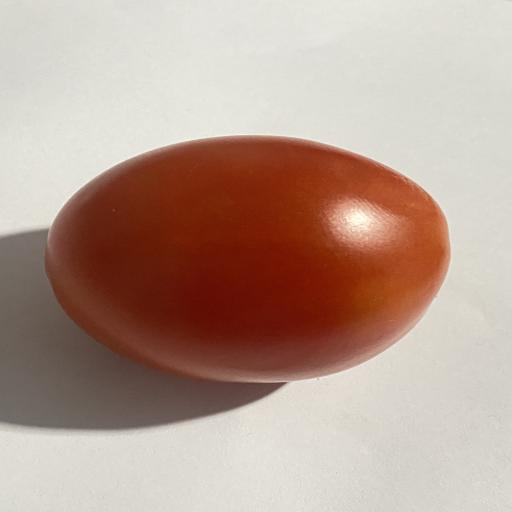ripe: (46, 136, 450, 382)
